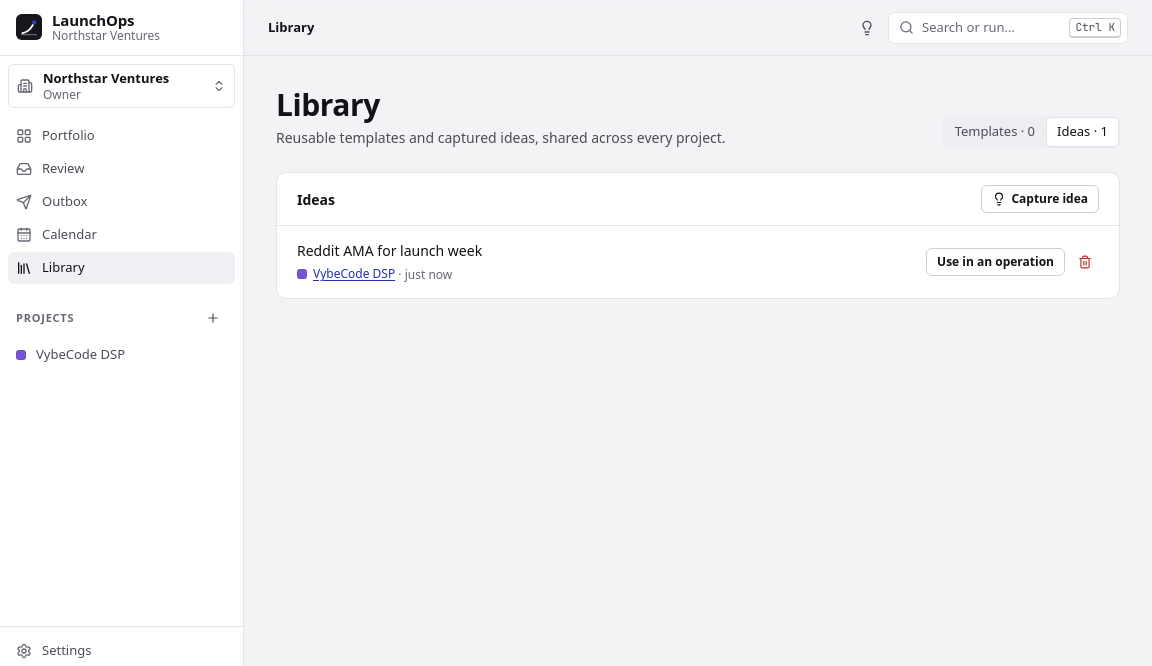
Test: Library › turns an idea into an operation with the idea as instructions
This screenshot has width=1152, height=666.
Click the link "Use in an operation": (996, 262) [926, 248, 1065, 276]
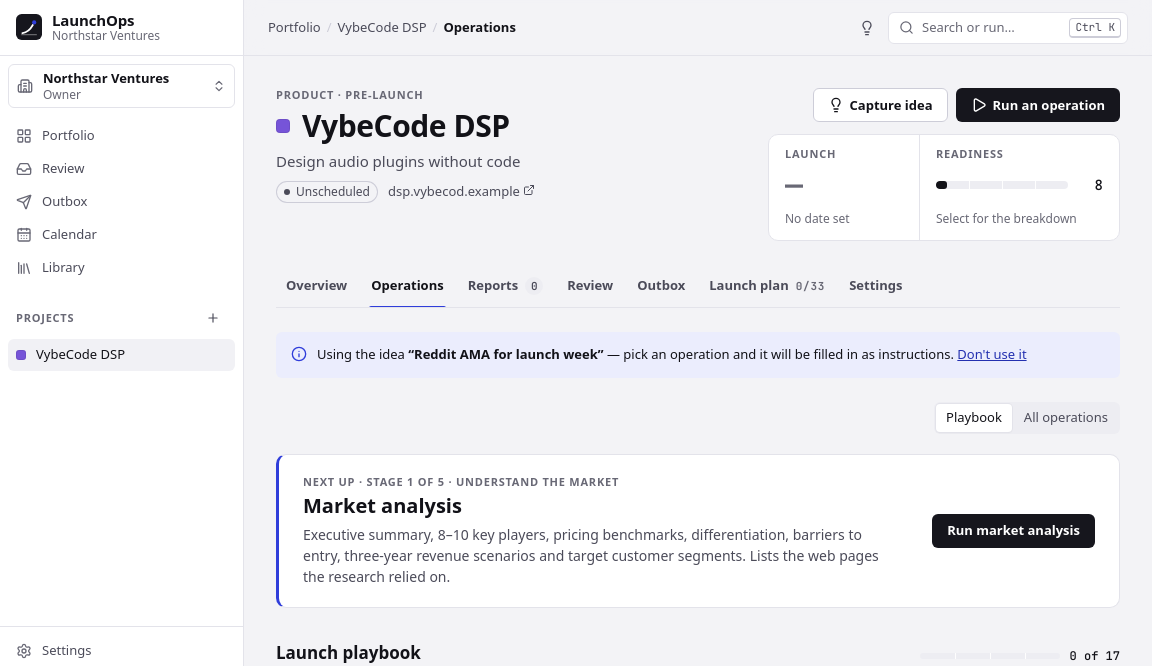
expect the text "pick an operation and it will be filled in as instructions" is shown: met, box [604, 345, 954, 363]
Click the button "All operations": (1066, 418) [1014, 404, 1118, 432]
(page scrolled)
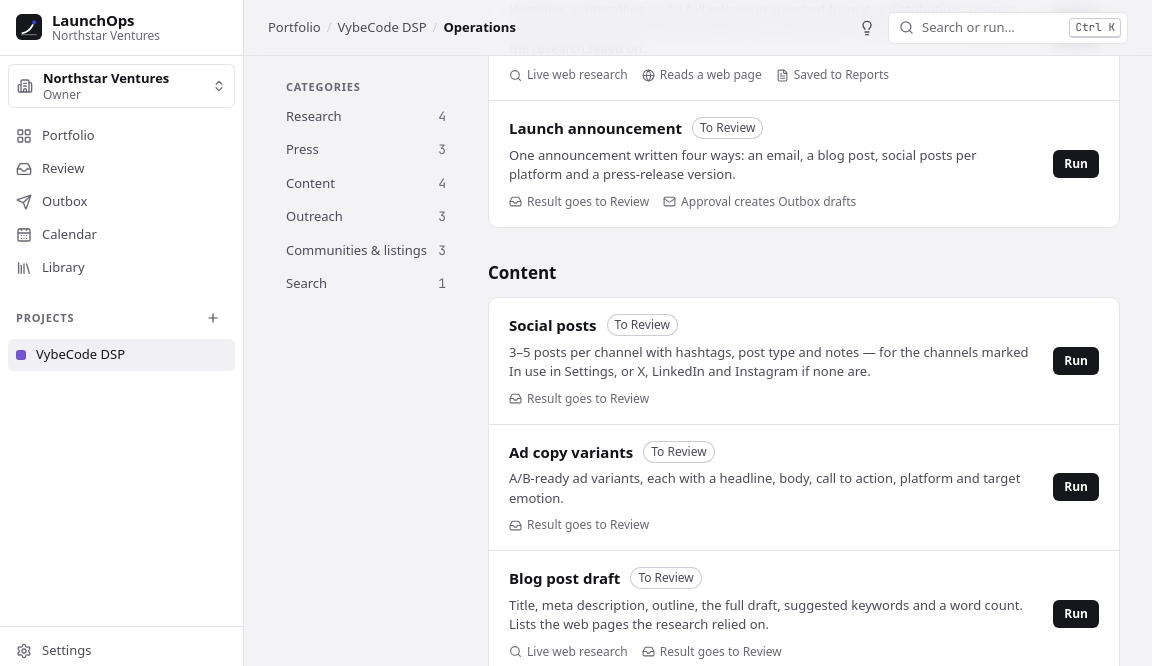
Click the 2nd button "Run": (1076, 361) [1053, 347, 1099, 375]
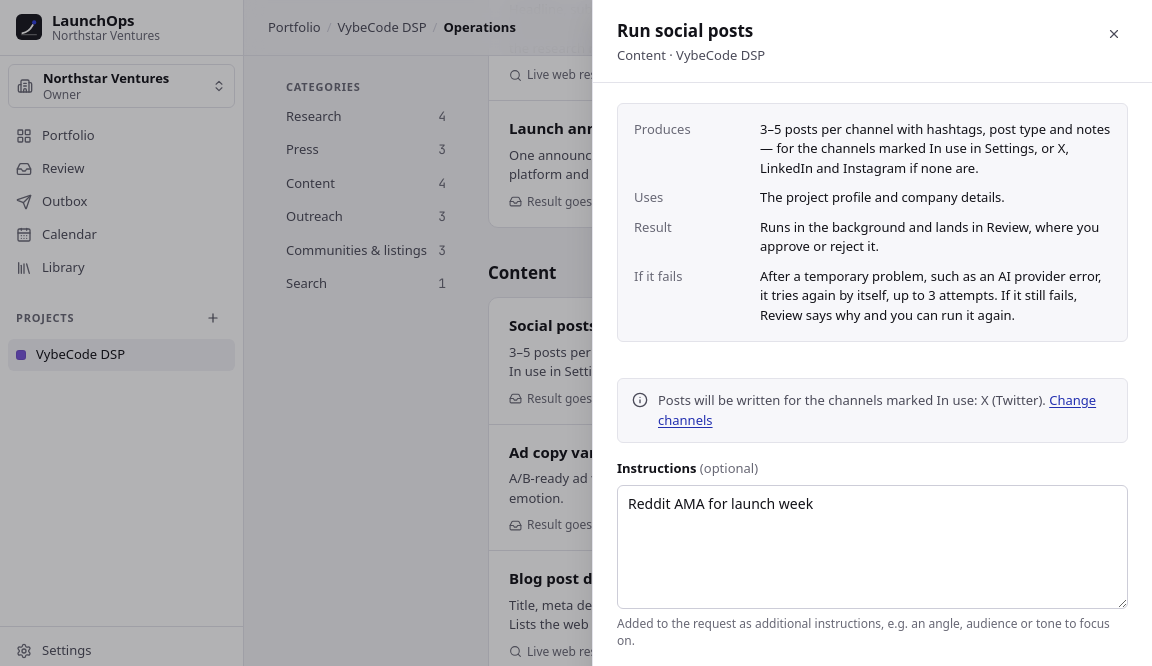
expect the text box labelled "Instructions (optional)" holds "Reddit AMA for launch week": met, box [617, 485, 1128, 609]
